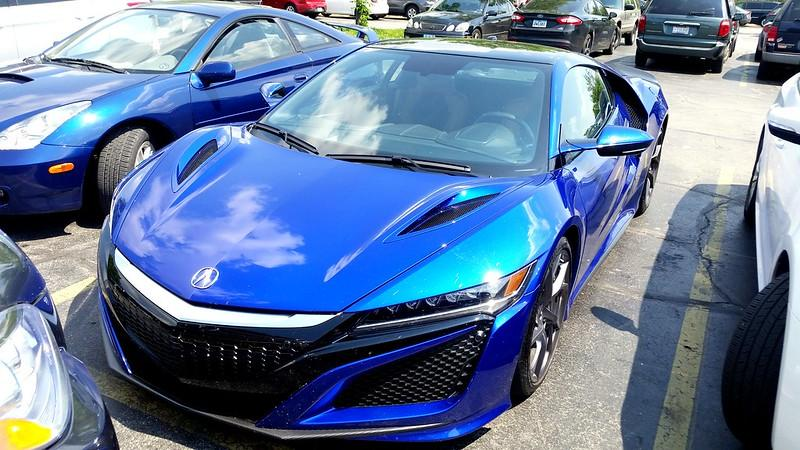windshield: (240, 39, 563, 180), (32, 4, 225, 80)
